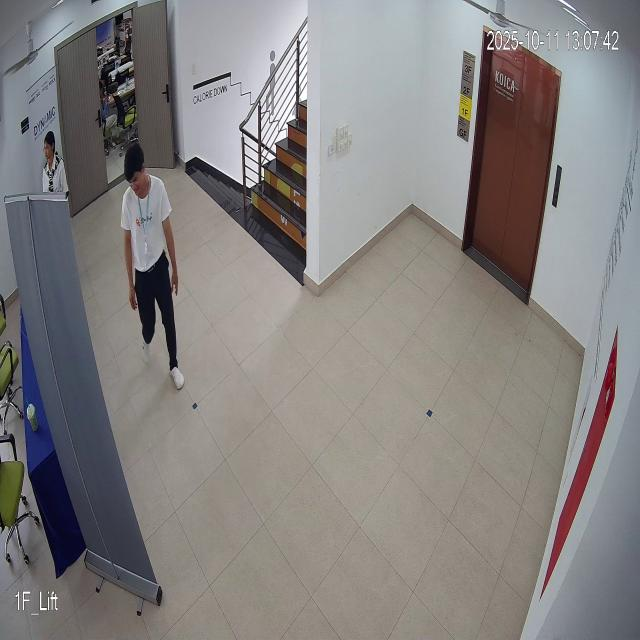face: (122, 141, 154, 206)
